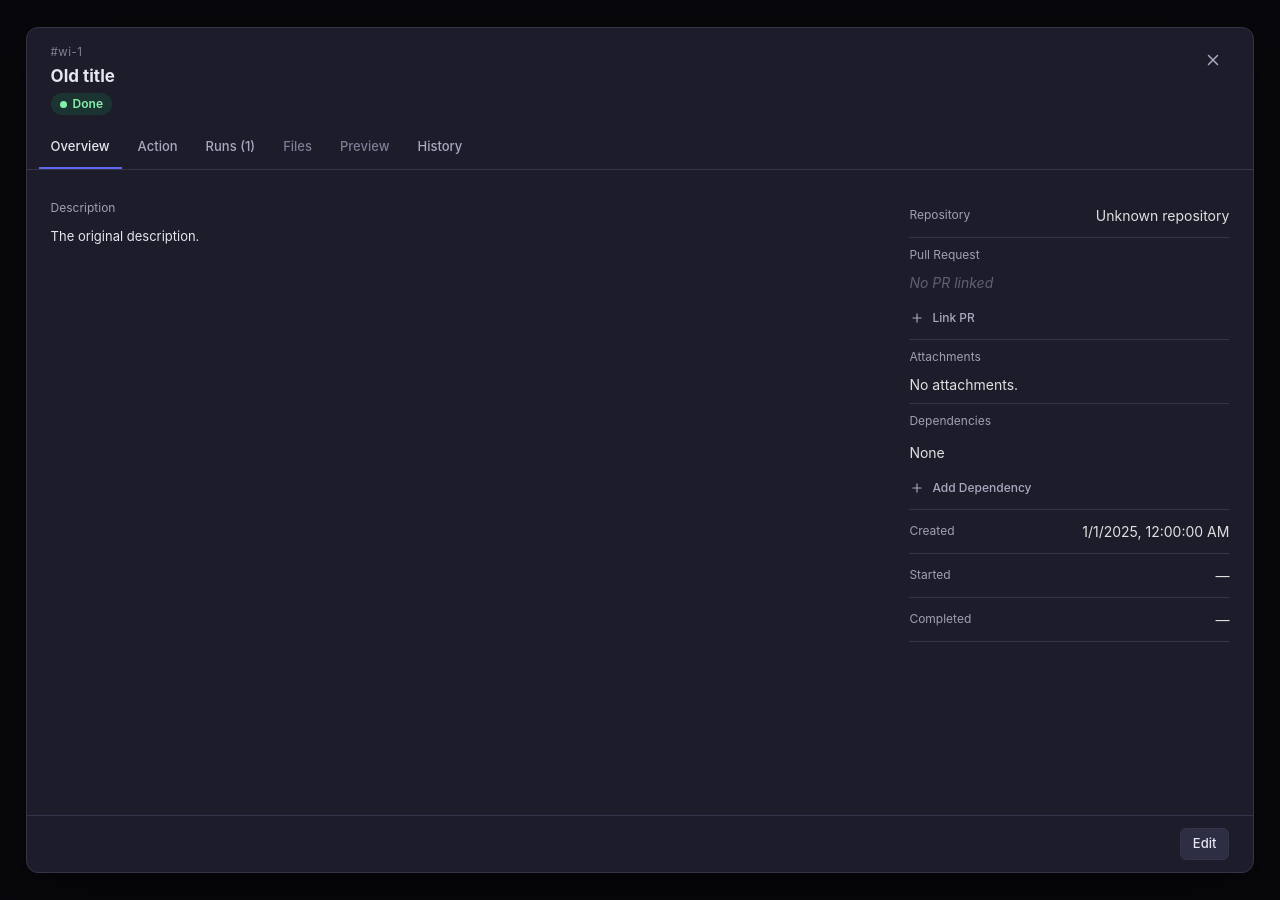
Scenario: loop template proposals in the Action tab › the item's runs' proposals sit after the turn that made them, as cards a human decides
Click the tab "Action": (158,148) [126,127,190,169]
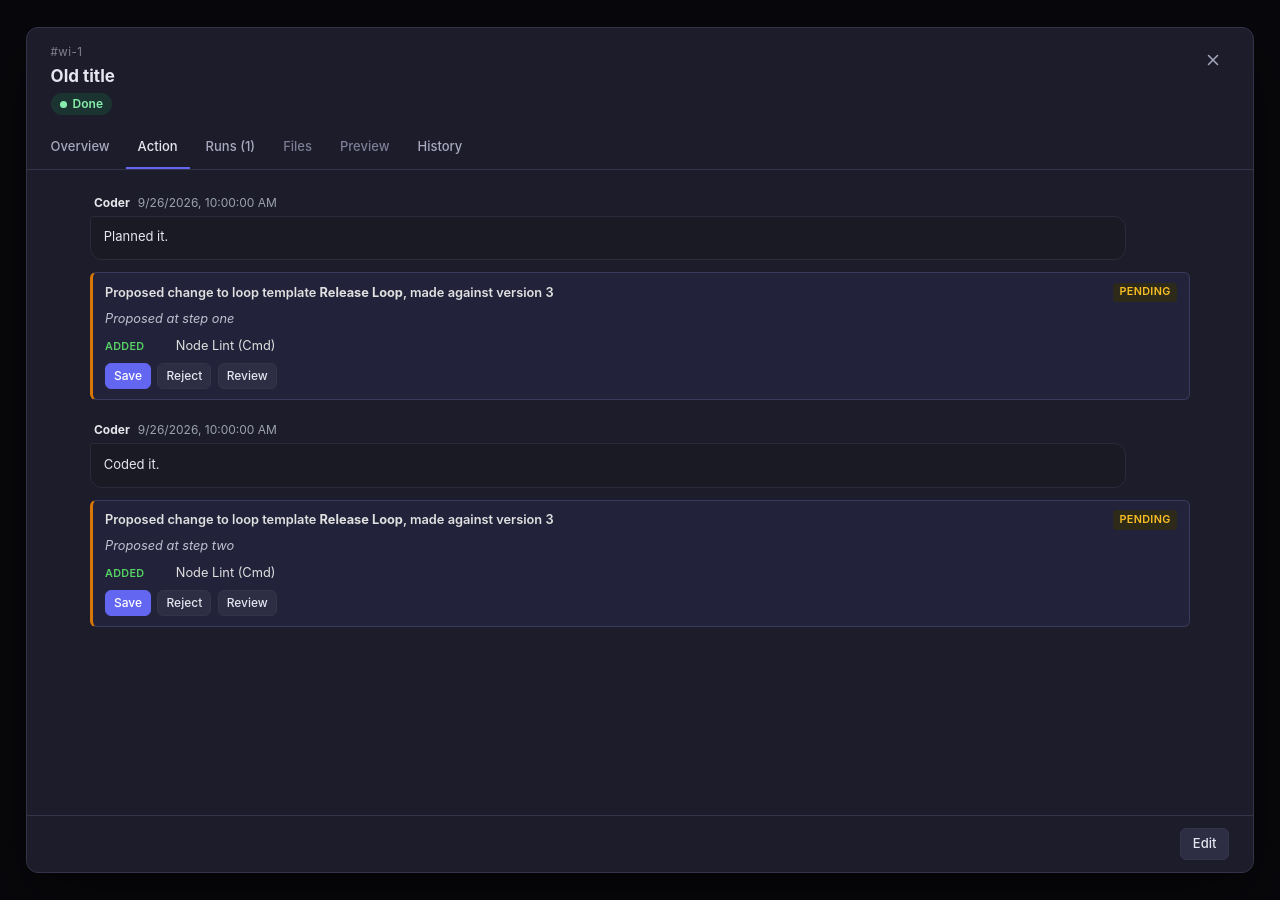
Now the number of buttons "Save" is 2, box [105,363,151,389]; [105,590,151,616]
